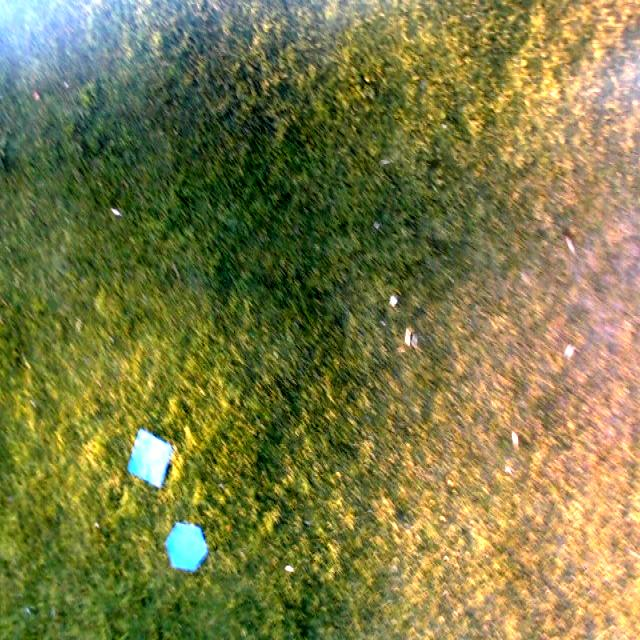blue_hexagon: (166, 521, 207, 571)
blue_square: (128, 428, 171, 488)
